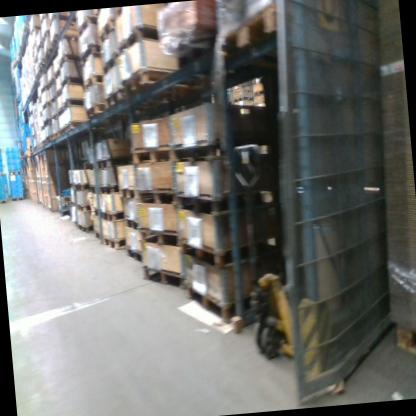pallet: (218, 0, 288, 68), (179, 230, 281, 275), (121, 60, 208, 102), (175, 185, 276, 219), (168, 133, 272, 166), (186, 279, 251, 324), (104, 84, 168, 117), (117, 23, 163, 57), (142, 261, 186, 294), (139, 223, 183, 253), (393, 314, 416, 366), (135, 185, 178, 209), (130, 144, 175, 166), (74, 13, 98, 40), (80, 36, 102, 65), (58, 50, 88, 71), (96, 154, 131, 171), (97, 22, 119, 46), (101, 232, 127, 252), (65, 118, 93, 135), (63, 96, 89, 112), (87, 101, 110, 119), (100, 52, 117, 76), (49, 13, 76, 28), (83, 73, 104, 92), (60, 75, 84, 91), (100, 209, 125, 224), (126, 245, 143, 264), (118, 185, 136, 202), (73, 201, 92, 217), (98, 182, 119, 196), (124, 215, 141, 232), (232, 94, 254, 105), (69, 181, 90, 192), (78, 222, 94, 235), (55, 83, 67, 99), (89, 159, 100, 174), (50, 33, 59, 51), (36, 41, 48, 54), (29, 25, 43, 36), (55, 104, 65, 119), (58, 124, 69, 137), (44, 47, 54, 61), (40, 29, 51, 41), (40, 100, 51, 112), (54, 67, 61, 83), (40, 85, 50, 95), (40, 13, 49, 24), (34, 70, 43, 81), (11, 195, 25, 202), (48, 75, 56, 87), (39, 58, 46, 71), (252, 90, 265, 97), (7, 170, 22, 176), (89, 184, 97, 195), (61, 196, 71, 204), (43, 119, 52, 127), (46, 134, 55, 142), (93, 230, 100, 240), (51, 92, 57, 103), (0, 198, 9, 205), (93, 205, 98, 217), (53, 131, 59, 140), (0, 172, 5, 178), (39, 201, 44, 206), (36, 177, 41, 182)
pallet_truck: (231, 141, 299, 362)
small_load_carrier: (6, 153, 14, 161), (8, 164, 15, 172), (7, 159, 15, 166), (6, 148, 14, 155), (15, 164, 22, 171), (14, 159, 21, 166), (14, 153, 20, 160), (13, 148, 20, 154)
